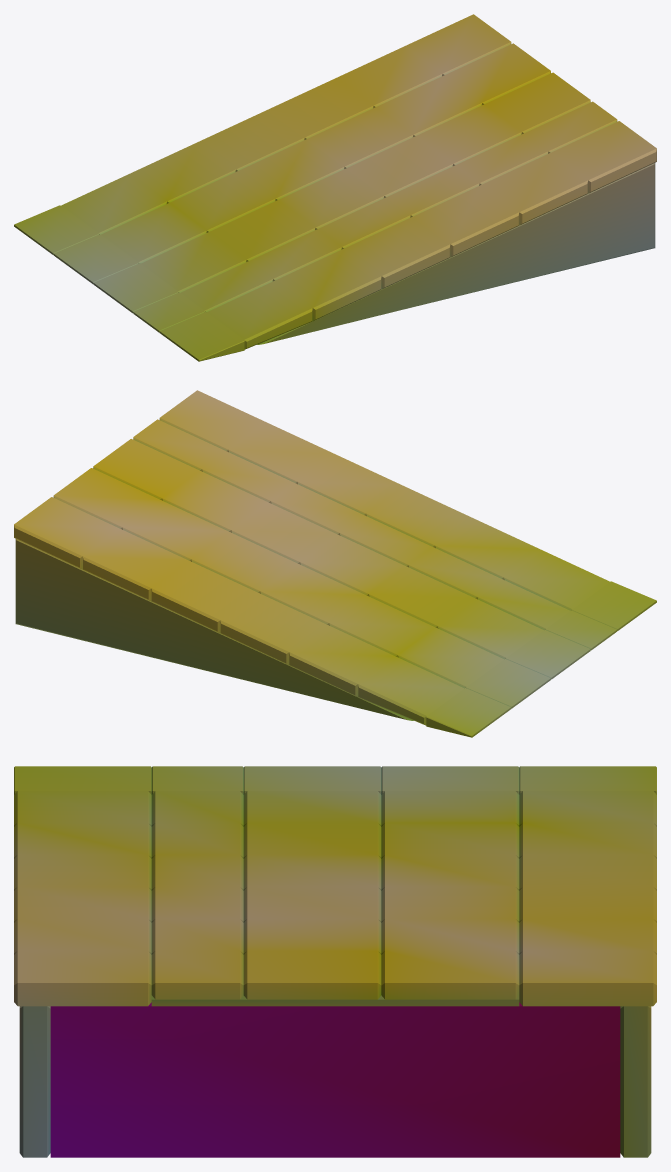
The model's file is Platform_Ramp_Start_NoStripe.fbx.
3 renders of one model, top to bottom at view 1: azimuth 30°, elevation 25°; view 2: azimuth 150°, elevation 25°; view 3: azimuth 270°, elevation 25°, orthographic. The views are drawn at different scales.
Parts seen in each view (by area): view 1: Platform_Ramp_Start_NoStripe; view 2: Platform_Ramp_Start_NoStripe; view 3: Platform_Ramp_Start_NoStripe.
Boxes of the visible parts, x1,y1,x2,y2 form: Platform_Ramp_Start_NoStripe: (14, 14, 656, 361); Platform_Ramp_Start_NoStripe: (14, 390, 656, 737); Platform_Ramp_Start_NoStripe: (14, 766, 656, 1157).
Bounding box in the file's own units: 5 × 1.05 × 3.5.
